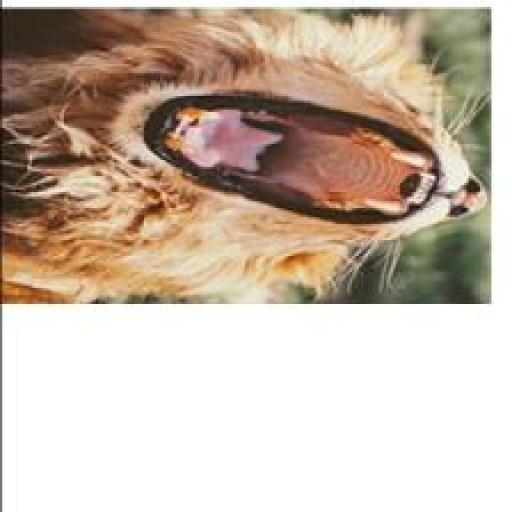lion: (2, 7, 493, 321)
